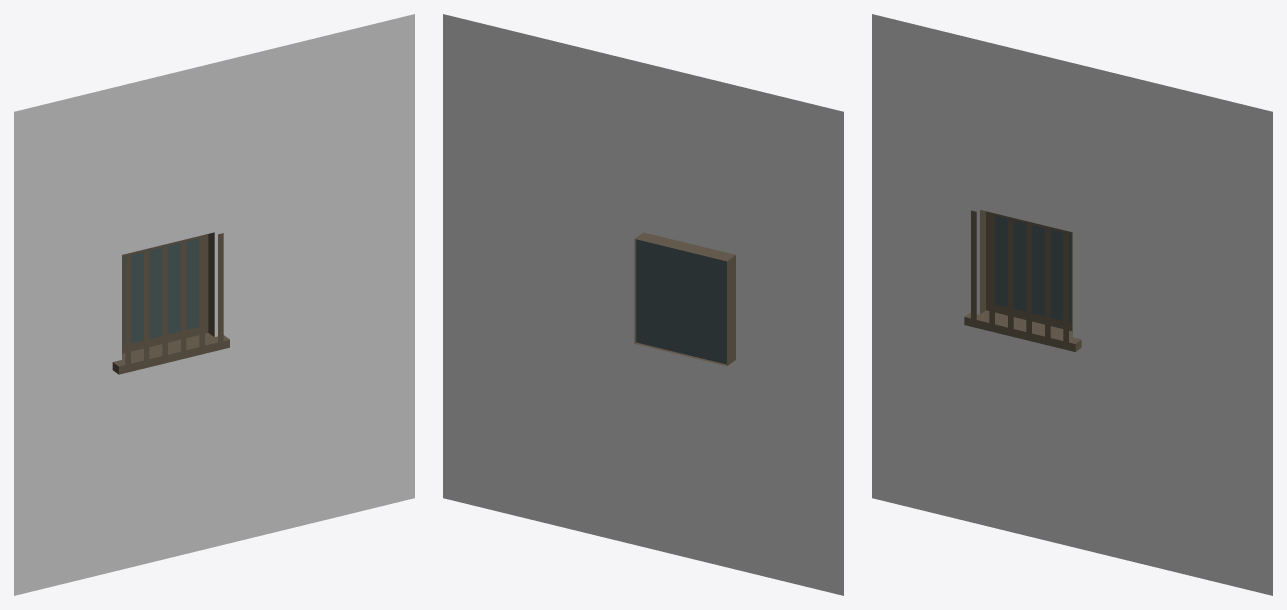
The model's file is top-w2.fbx.
The picture shows the model from 3 angles, left to right: view 1: azimuth 30°, elevation 25°; view 2: azimuth 150°, elevation 25°; view 3: azimuth 330°, elevation 25°; orthographic projection.
Visible parts, largest first — view 1: a2015/800/top-w2; view 2: a2015/800/top-w2; view 3: a2015/800/top-w2.
Part boxes in pixels (x1=…): a2015/800/top-w2: x1=14, y1=14, x2=414, y2=595; a2015/800/top-w2: x1=443, y1=14, x2=843, y2=595; a2015/800/top-w2: x1=872, y1=14, x2=1272, y2=595.
Bounding box in the file's own units: 2.6 × 3 × 0.17.
